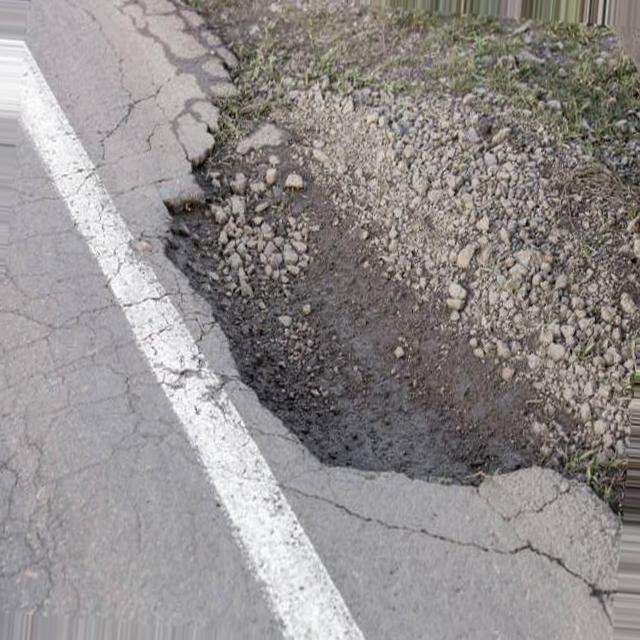Pinggir: (164, 45, 579, 494)
